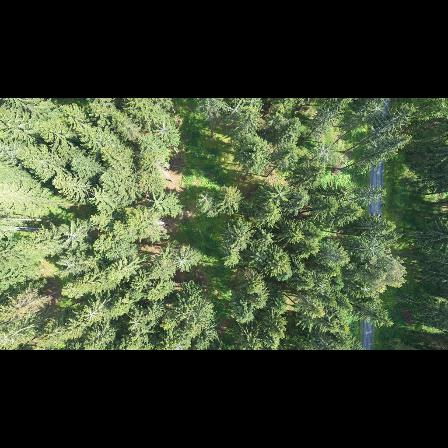Sick: (73, 301, 109, 327), (167, 247, 201, 272), (264, 180, 295, 206), (151, 118, 175, 142)
